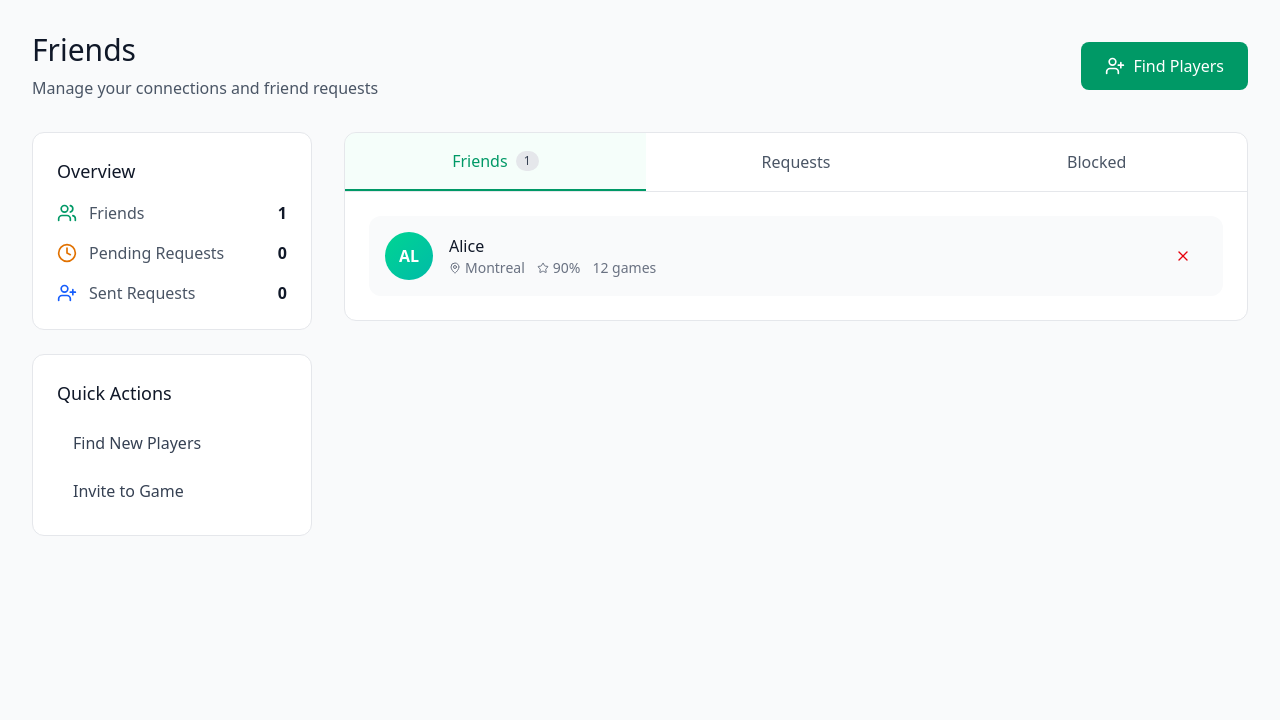
Test: FriendsPage › shows error banner if an action (remove friend) fails
The image size is (1280, 720).
Expected: the heading "Friends" is shown, [32,29,136,70]
Click the 4th button: (1183, 256) [1159,240,1207,272]
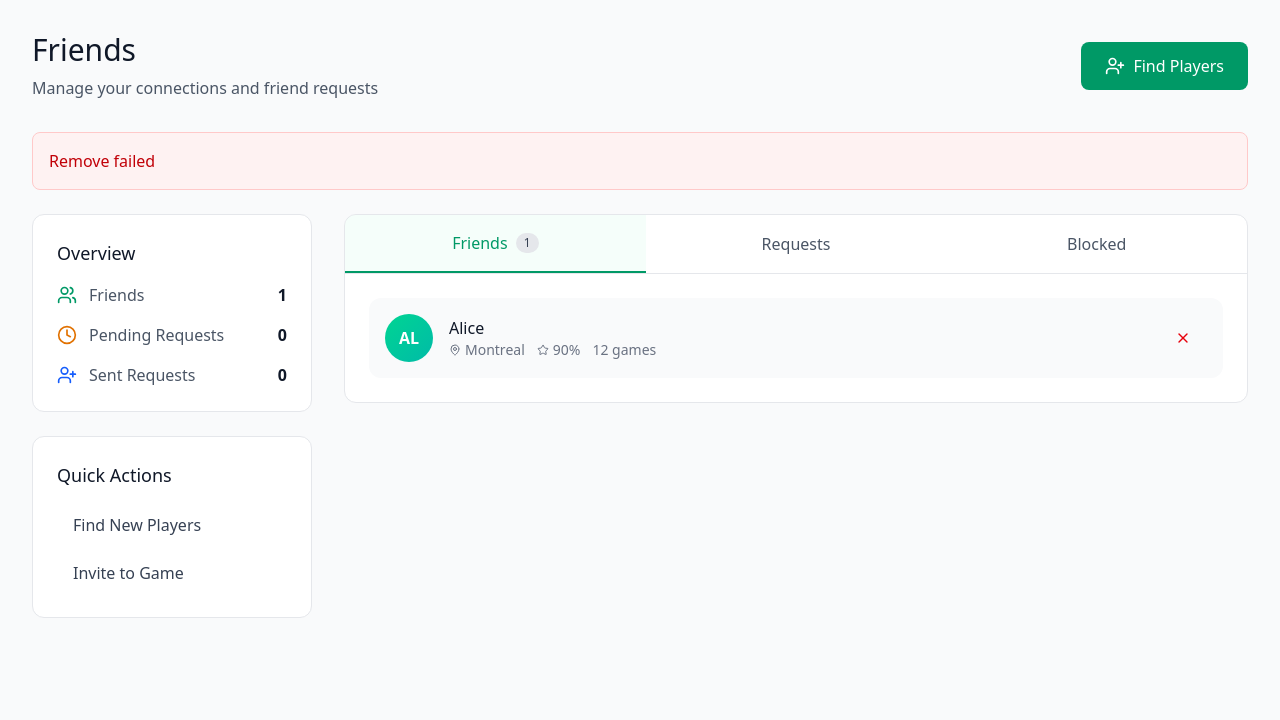
Expected: the link "Alice" is shown, [449,317,484,339]
Now the text "Remove failed" is shown, box [32,132,1248,190]
